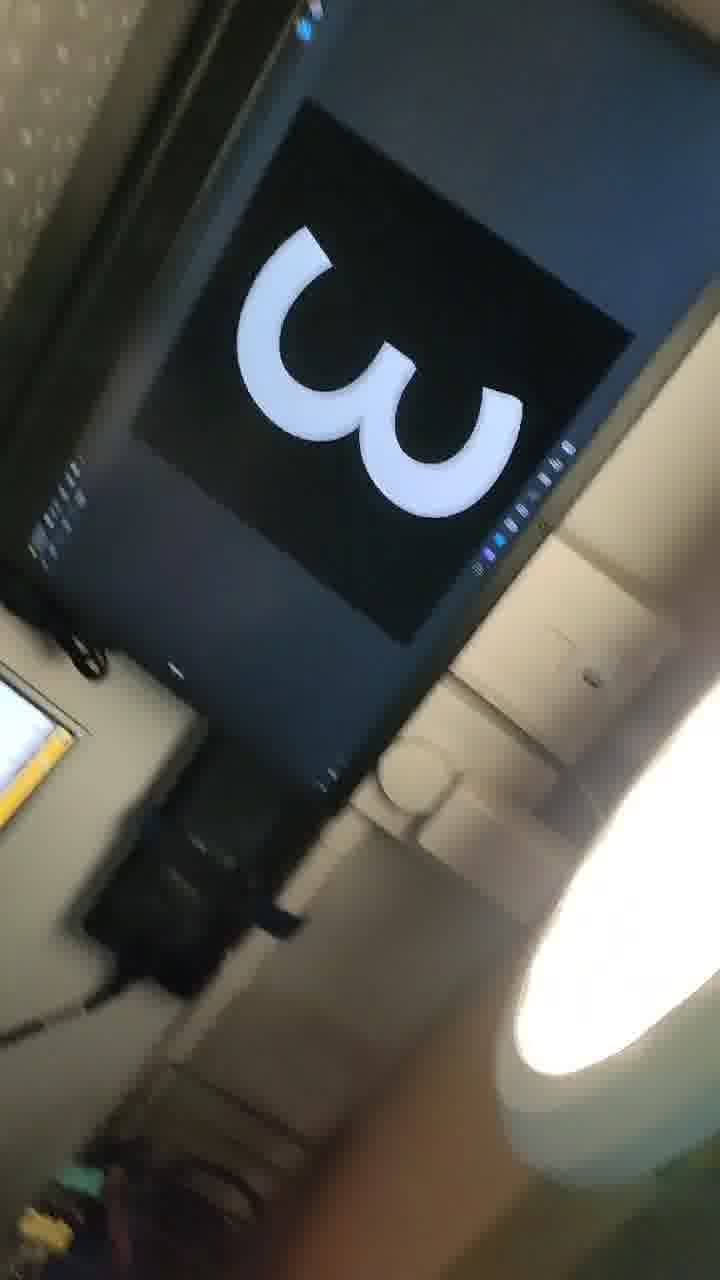three: (200, 176, 562, 512)
